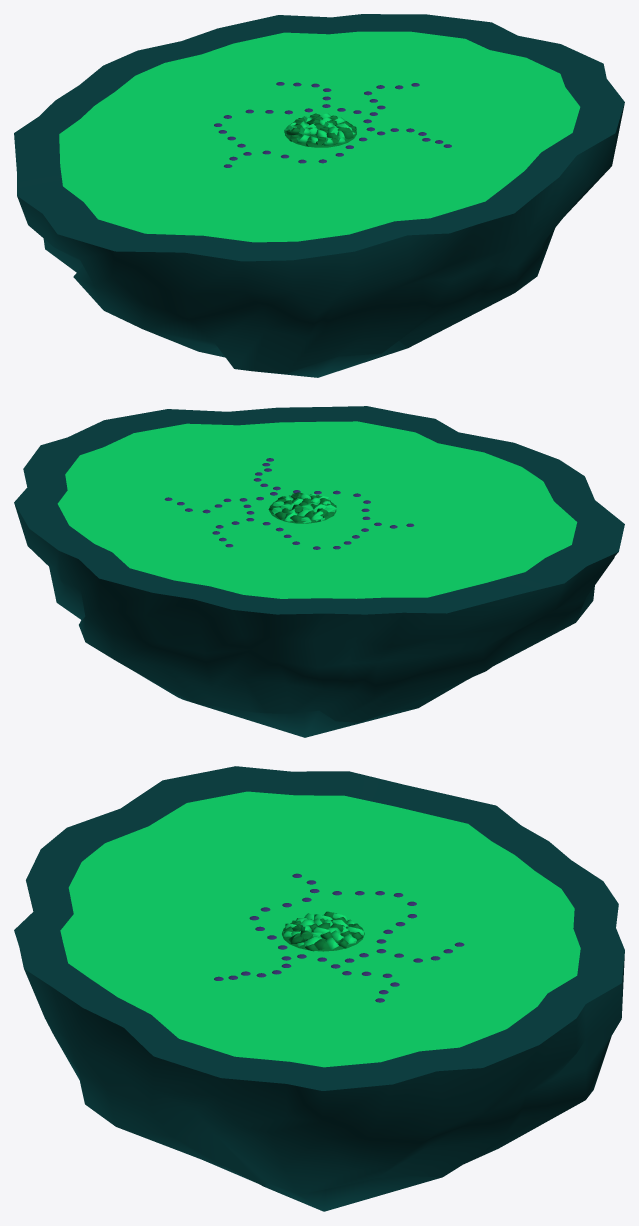
File: Terrain.obj
3 renders of one model, top to bottom at view 1: azimuth 30°, elevation 25°; view 2: azimuth 150°, elevation 25°; view 3: azimuth 270°, elevation 25°, orthographic. The views are drawn at different scales.
Parts seen in each view (by area): view 1: polySurface7848; view 2: polySurface7848; view 3: polySurface7848.
Part boxes in pixels (x1,y1,x2,y2): polySurface7848: (14, 14, 624, 377); polySurface7848: (14, 406, 624, 737); polySurface7848: (14, 766, 624, 1211).
Bounding box in the file's own units: 17.62 × 7.33 × 14.
